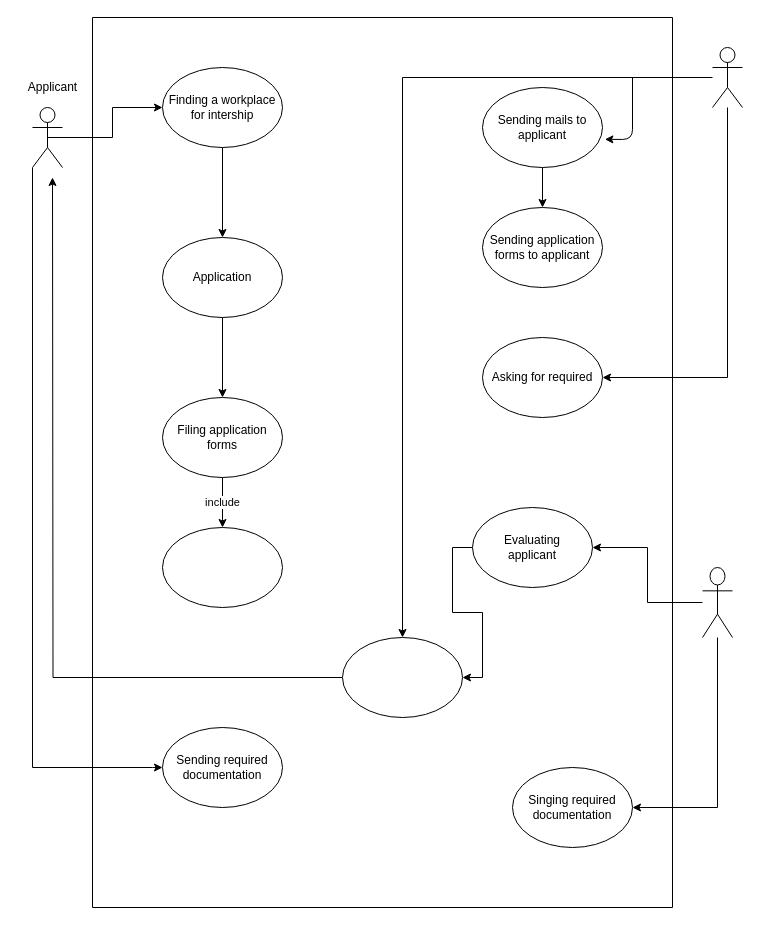
The diagram is 763 pixels wide and 925 high, and some of its shapes have lost their labels. The shapes that lost their labels are listed below. From the top down, each one's box as (x1, y1, x2, y2) in pixels, then its label:
(712, 46, 742, 108): HR
(162, 526, 282, 608): Sending CV
(702, 566, 732, 638): Supervisor
(342, 636, 462, 718): Approve
